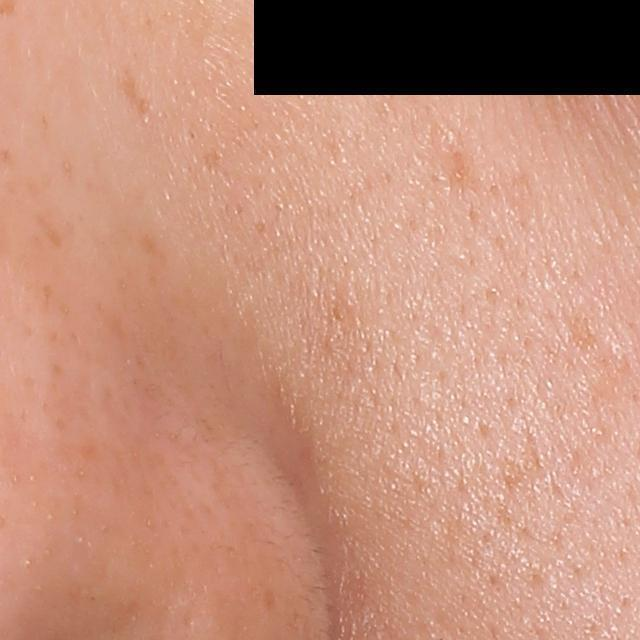melasma: (107, 58, 162, 129), (441, 137, 487, 201)
